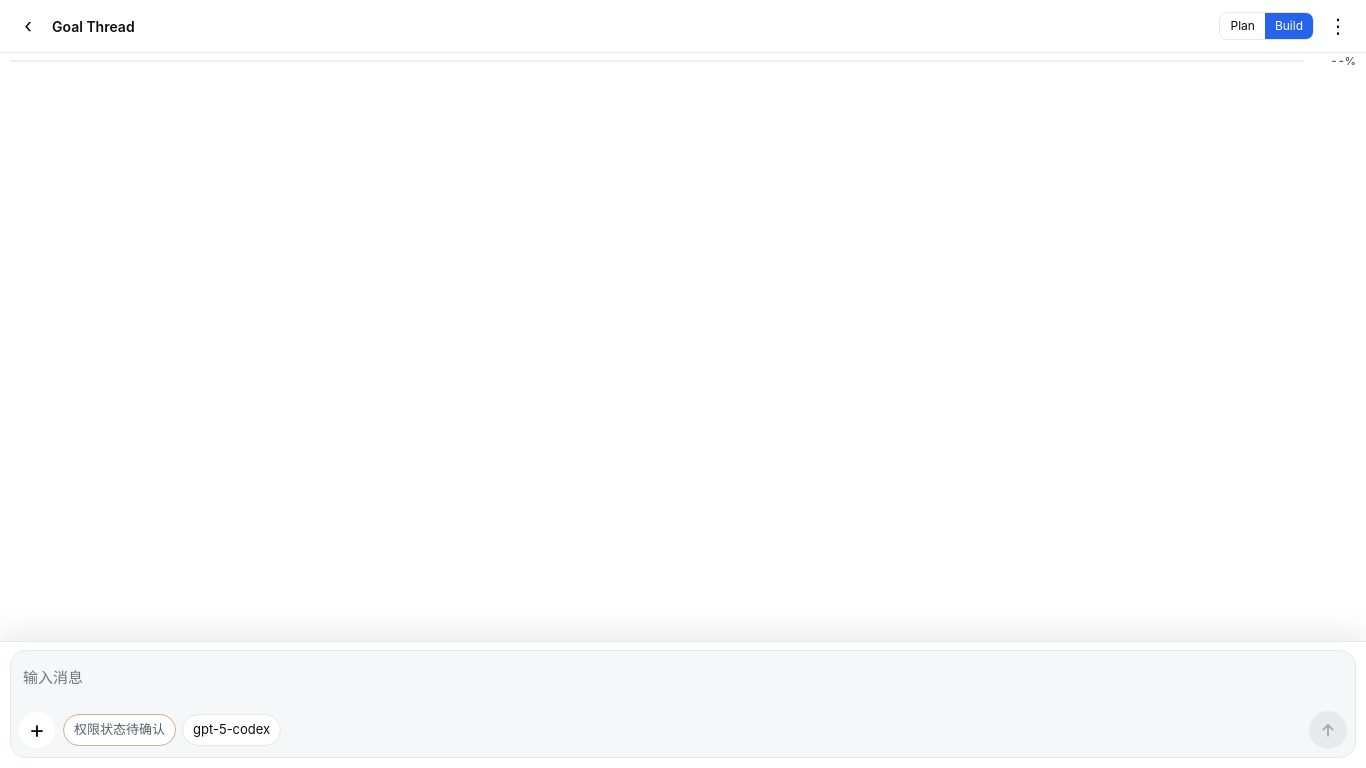
Test: ThreadPage › should edit and clear an existing thread goal from the add panel
Click the button named "添加内容" at (37, 730), box [19, 712, 55, 748]
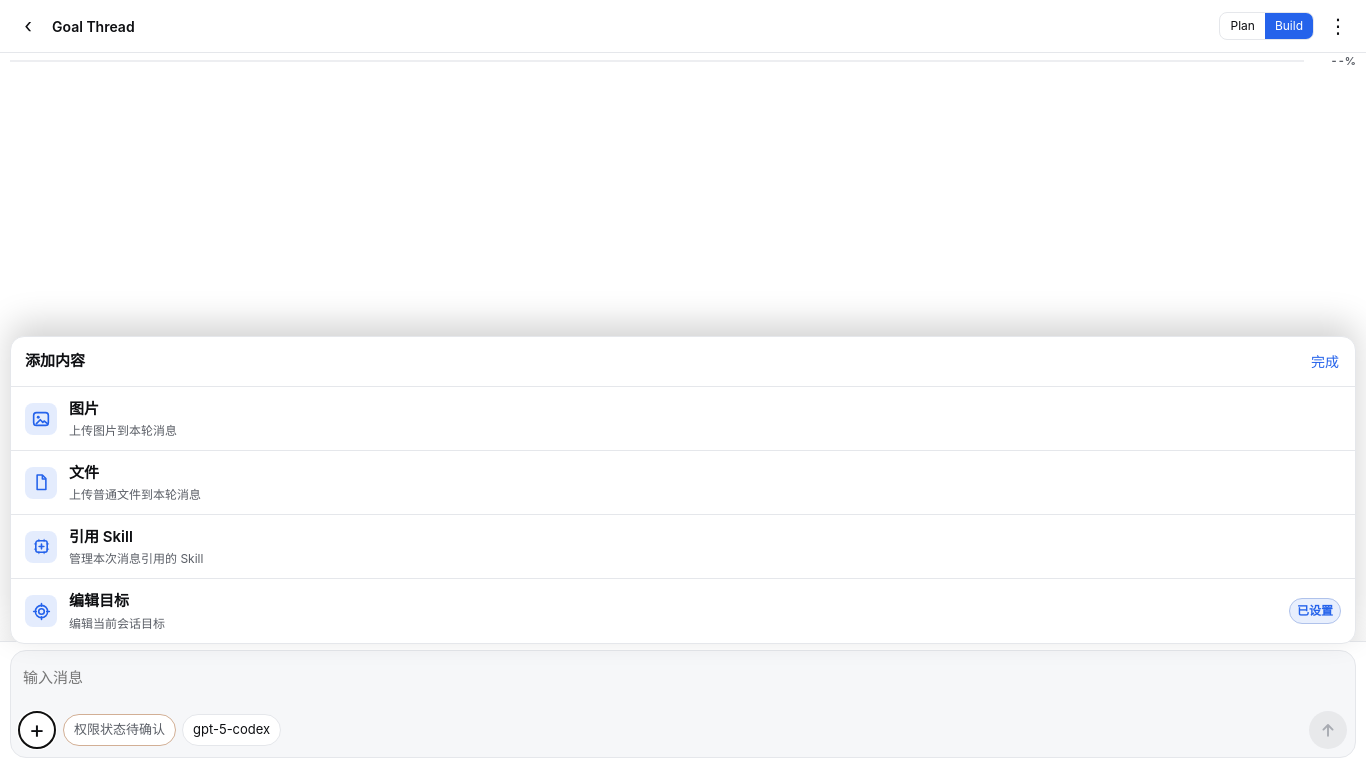
Now the button "编辑目标 编辑当前会话目标 已设置" is shown
Click the button "编辑目标 编辑当前会话目标 已设置" at (41, 611), box [11, 579, 1355, 643]
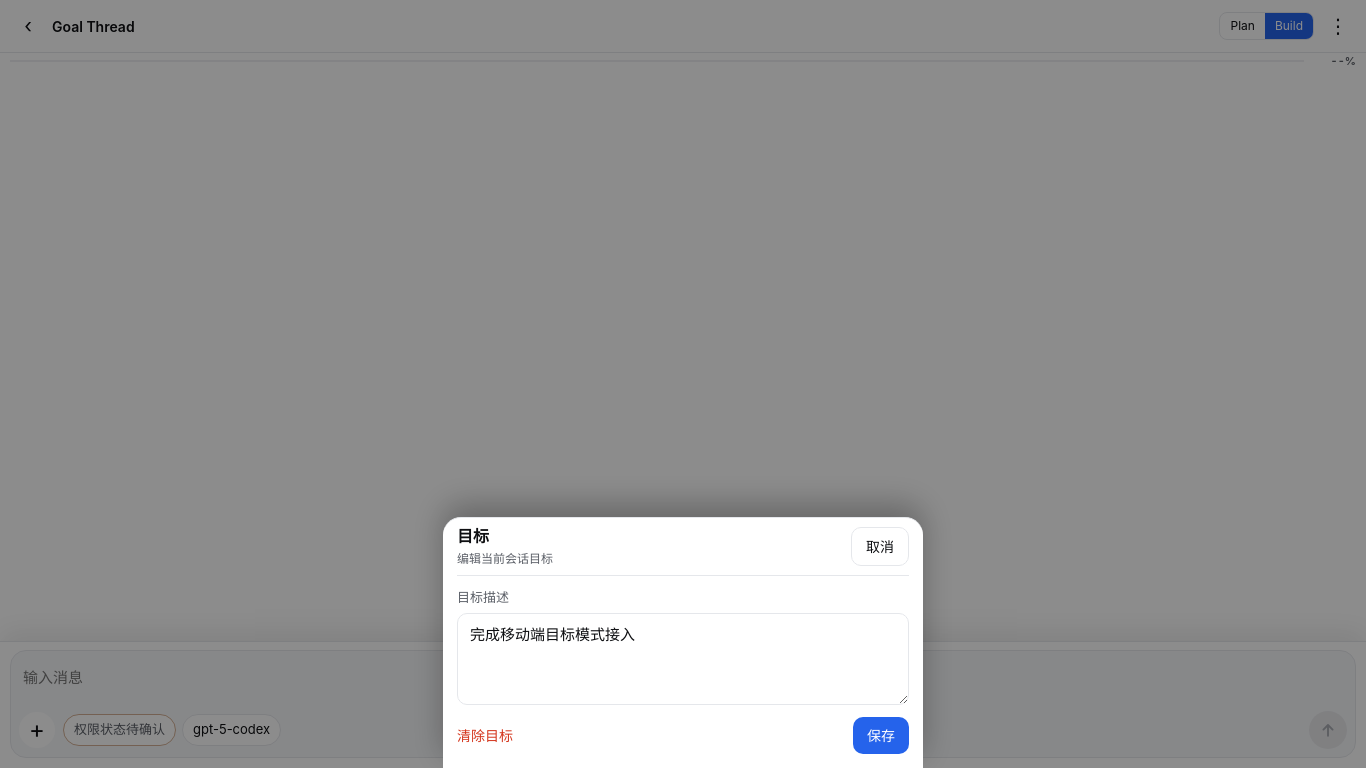
Now the text box labelled "目标描述" holds "完成移动端目标模式接入", box [457, 613, 909, 705]
Click the button "清除目标" at (485, 736), box [457, 717, 513, 754]
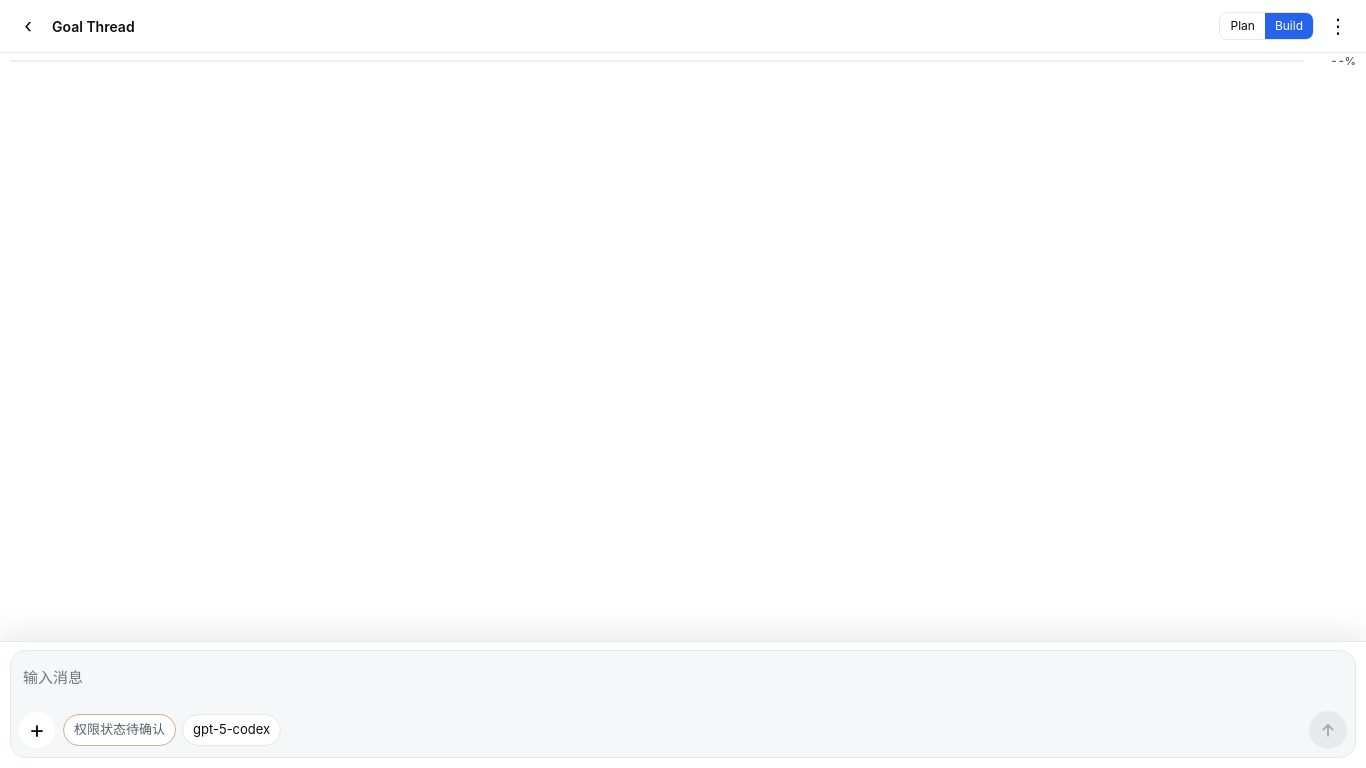
Now the text "目标" is gone
